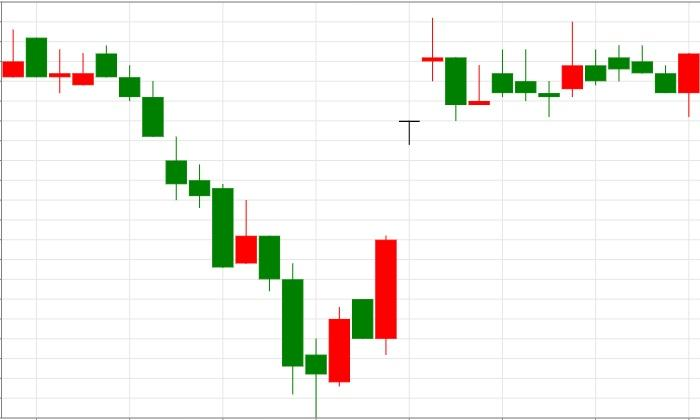bullish_engulfing_rise: (607, 45, 700, 117)
